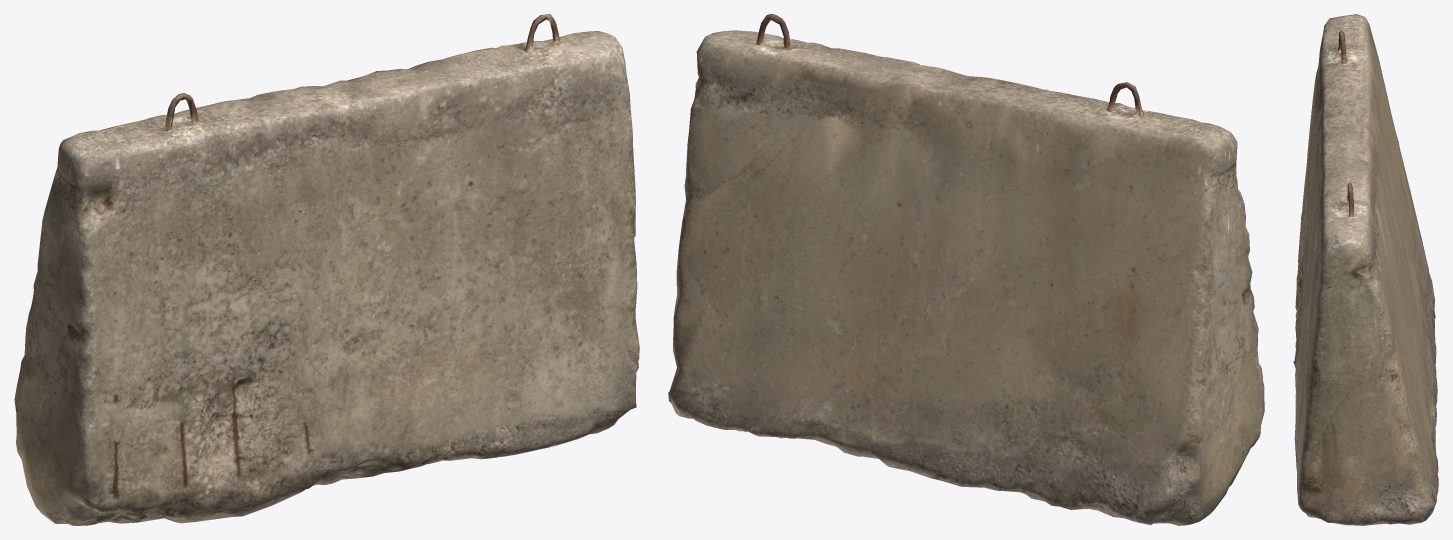
Rendered from concrete_road_barrier_02.glb.
The picture shows the model from 3 angles, left to right: view 1: azimuth 30°, elevation 25°; view 2: azimuth 150°, elevation 25°; view 3: azimuth 270°, elevation 25°; orthographic projection. The views are drawn at different scales.
Parts seen in each view (by area): view 1: concrete_road_barrier_02; view 2: concrete_road_barrier_02; view 3: concrete_road_barrier_02.
Part boxes in pixels (bbox=[...]): concrete_road_barrier_02: bbox=[14, 14, 639, 525]; concrete_road_barrier_02: bbox=[668, 14, 1264, 525]; concrete_road_barrier_02: bbox=[1293, 14, 1438, 525].
Bounding box in the file's own units: 1.56 × 1.11 × 0.4421.
1 material, 1 textured.
